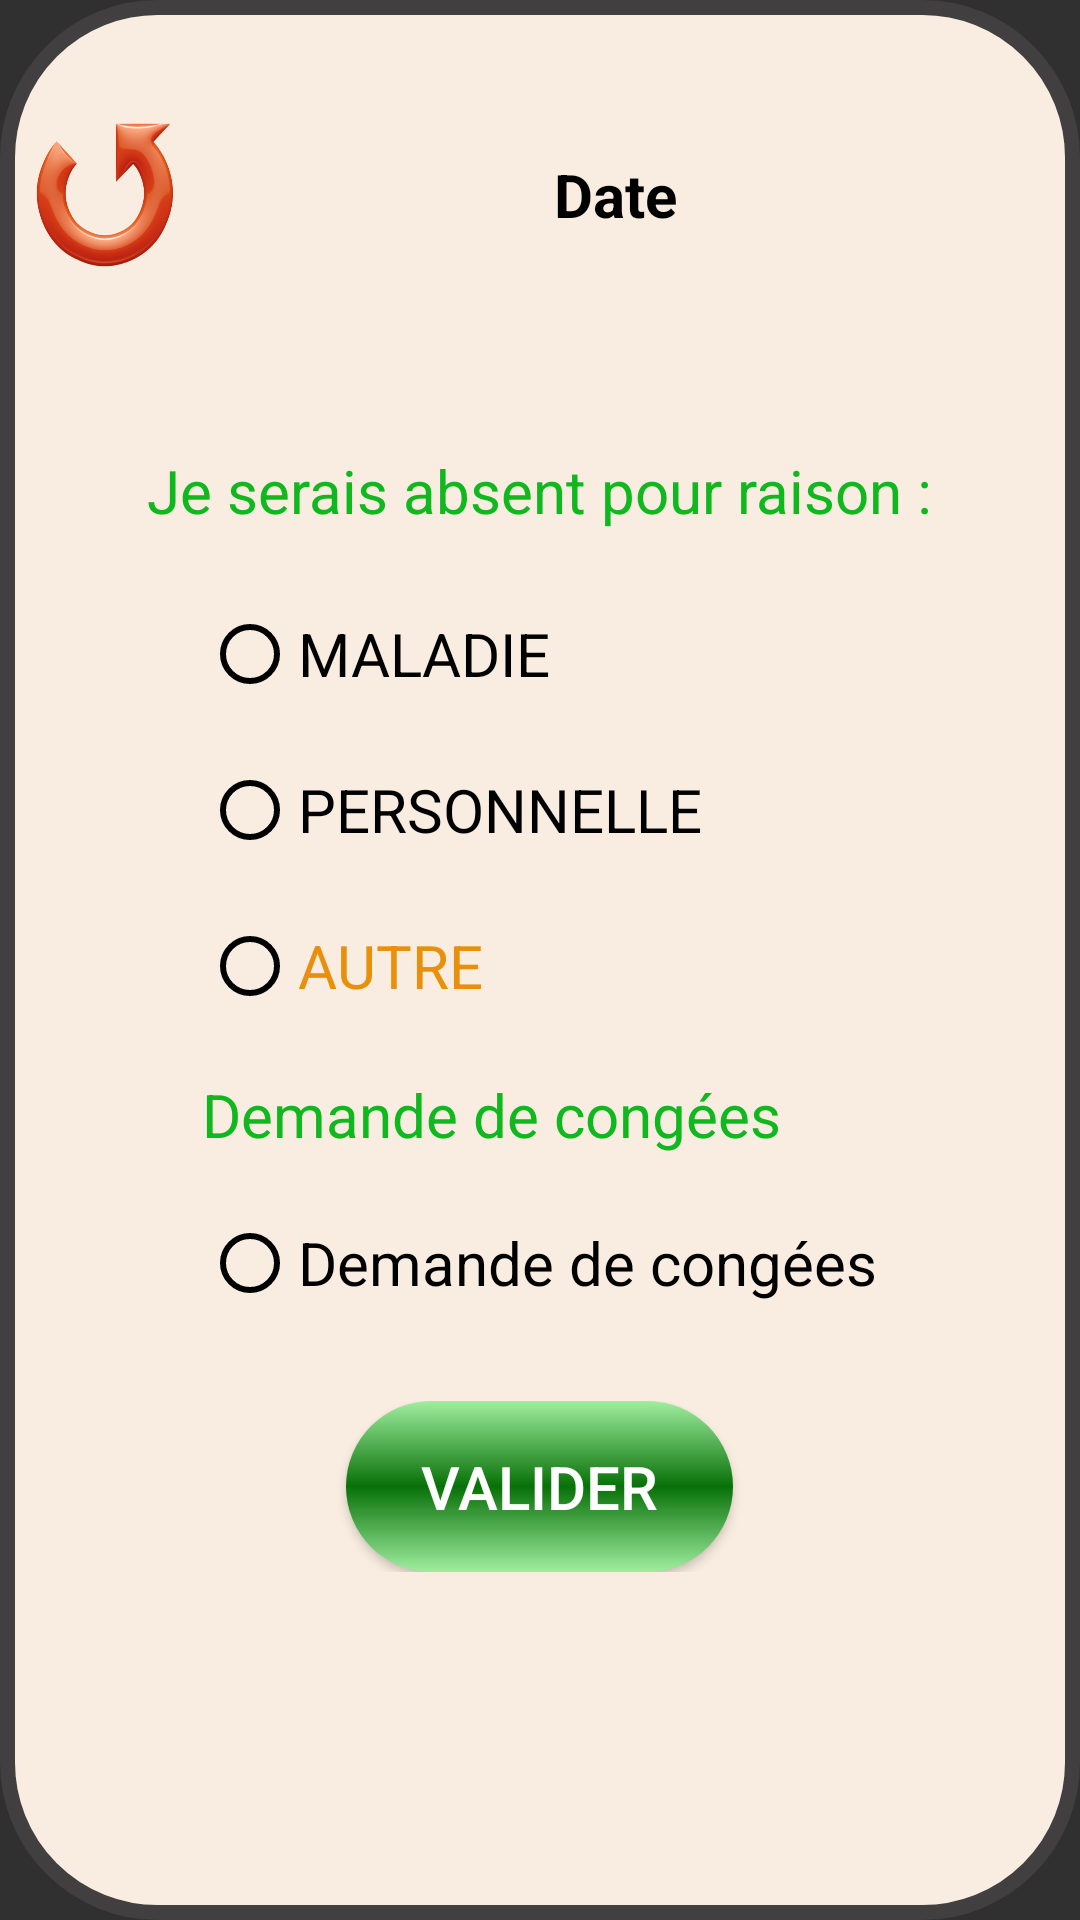

Icons on this 1080px×1920px Android screen, each with its box as rect(x1, y1, x2, y2):
retour: rect(37, 123, 173, 267)
